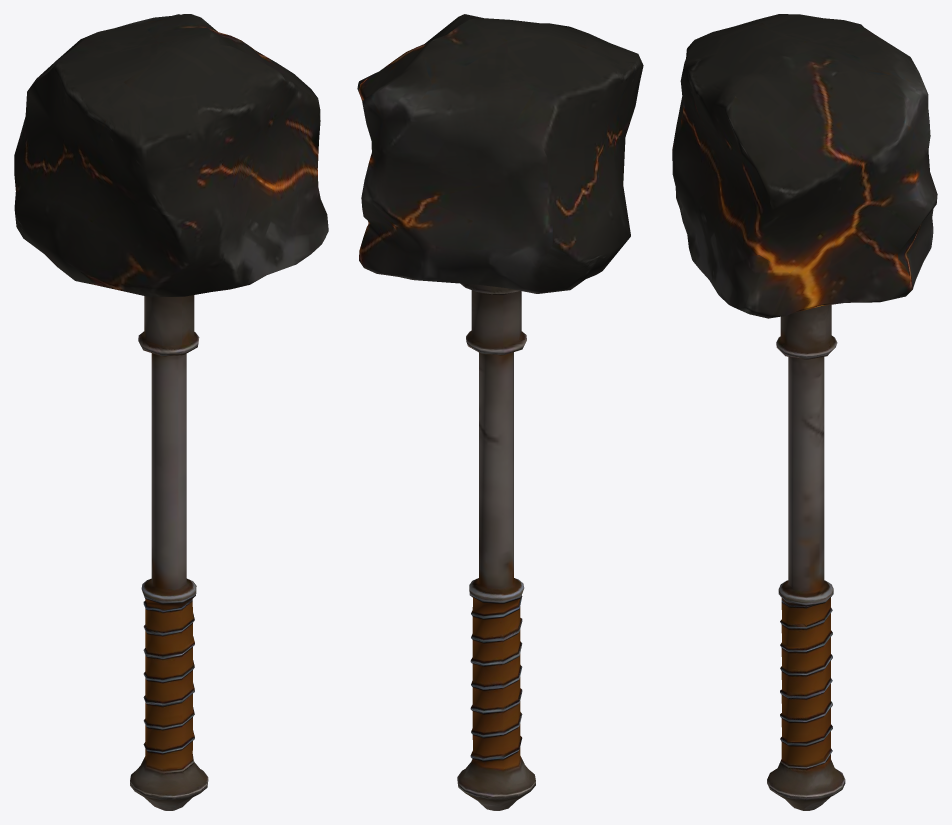
Rendered from smoulderfall.glb.
The picture shows the model from 3 angles, left to right: view 1: azimuth 30°, elevation 25°; view 2: azimuth 150°, elevation 25°; view 3: azimuth 270°, elevation 25°; orthographic projection.
Visible parts, largest first — view 1: tripo_node_2f7d8ae3-e235-4642-bb2a-4e6a414662dd; view 2: tripo_node_2f7d8ae3-e235-4642-bb2a-4e6a414662dd; view 3: tripo_node_2f7d8ae3-e235-4642-bb2a-4e6a414662dd.
Boxes of the visible parts, x1,y1,x2,y2 form: tripo_node_2f7d8ae3-e235-4642-bb2a-4e6a414662dd: (14,14,328,810); tripo_node_2f7d8ae3-e235-4642-bb2a-4e6a414662dd: (357,14,643,810); tripo_node_2f7d8ae3-e235-4642-bb2a-4e6a414662dd: (672,14,937,810).
Size of the model in its own units: 0.5206 by 1.45 by 0.4541.
Materials: 1 (1 with a texture image).
